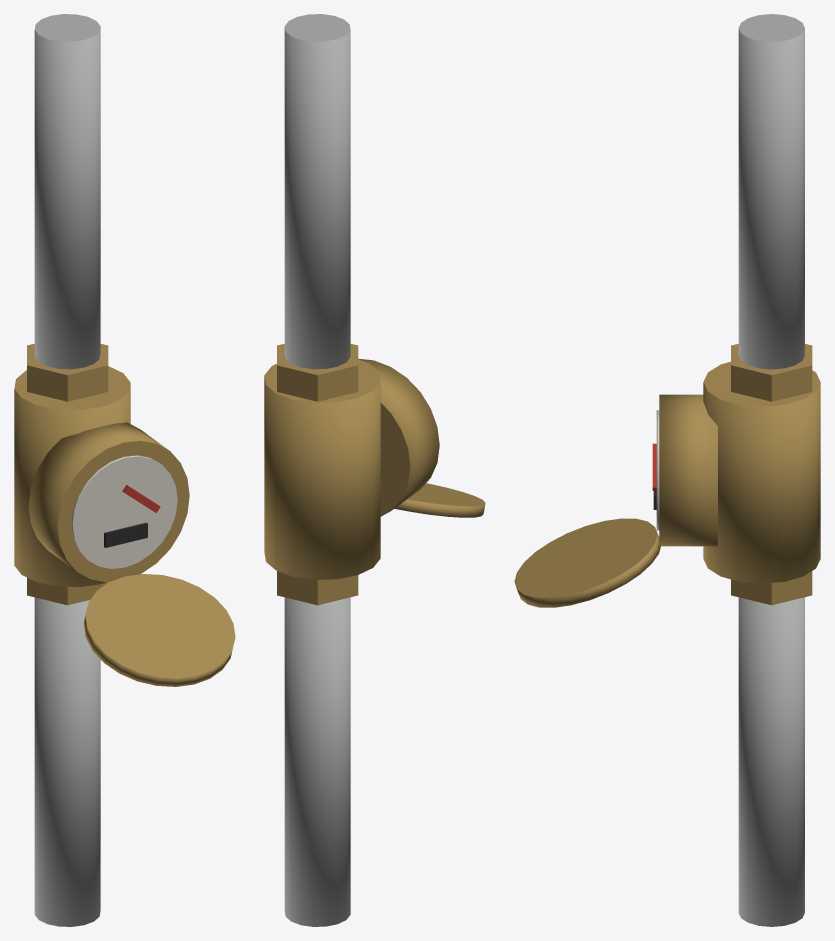
File: flowmeter_ns.obj
The picture shows the model from 3 angles, left to right: view 1: azimuth 30°, elevation 25°; view 2: azimuth 150°, elevation 25°; view 3: azimuth 270°, elevation 25°; orthographic projection.
Parts seen in each view (by area): view 1: pipe4, pipe1, meter_lid, meter_register, meter_body, meter_dial, meter_nut4, meter_nut1, meter_wheels; view 2: pipe4, meter_body, pipe1, meter_register, meter_nut4, meter_lid, meter_nut1; view 3: pipe4, pipe1, meter_body, meter_lid, meter_register, meter_nut4, meter_nut1.
Part boxes in pixels (x1,y1,x2,y2): pipe4: [34, 14, 100, 369]; pipe1: [34, 597, 100, 926]; meter_lid: [83, 574, 235, 686]; meter_register: [28, 422, 189, 582]; meter_body: [14, 366, 130, 586]; meter_dial: [71, 455, 177, 568]; meter_nut4: [27, 343, 108, 401]; meter_nut1: [27, 577, 107, 605]; meter_wheels: [104, 522, 147, 547]; pipe4: [284, 14, 350, 369]; meter_body: [264, 359, 380, 579]; pipe1: [284, 597, 350, 926]; meter_register: [358, 358, 439, 516]; meter_nut4: [277, 343, 358, 401]; meter_lid: [394, 483, 485, 517]; meter_nut1: [277, 571, 358, 605]; pipe4: [738, 14, 804, 369]; pipe1: [738, 597, 804, 926]; meter_body: [703, 361, 820, 583]; meter_lid: [514, 518, 660, 607]; meter_register: [659, 394, 717, 546]; meter_nut4: [731, 344, 812, 401]; meter_nut1: [731, 571, 812, 605].
Bounding box in the file's own units: 0.156 × 1 × 0.3136.
5 materials, 5 textured.
